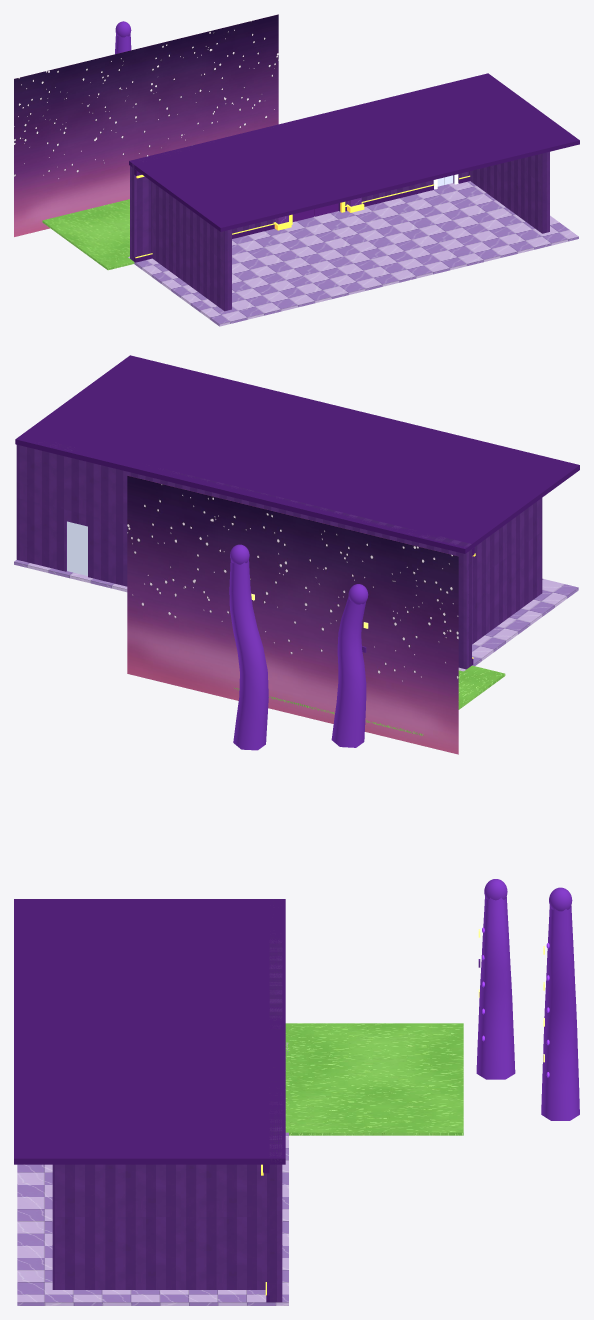
The model's file is vorraum.glb.
The picture shows the model from 3 angles, top to bottom: view 1: azimuth 30°, elevation 25°; view 2: azimuth 150°, elevation 25°; view 3: azimuth 270°, elevation 25°; orthographic projection. The views are drawn at different scales.
Parts seen in each view (by area): view 1: PV_Decke.001, PV_GartenHimmel.001, PV_Boden.001, PV_Seitenwand-1.001, PV_Seitenwand1.001, PV_GartenWiese.001, PV_Wand.001, PV_Sockel2.001; view 2: PV_GartenHimmel.001, PV_Decke.001, PV_Wand.001, PV_Seitenwand-1.001, PV_GartenTurm1.001, PV_GartenTurm0.001, PV_Boden.001, PV_GartenWiese.001, PV_AufzugInnen.001; view 3: PV_Decke.001, PV_Seitenwand1.001, PV_GartenWiese.001, PV_Boden.001, PV_GartenTurm1.001, PV_GartenTurm0.001, PV_Wand.001.
Part boxes in pixels (left/top/right/bottom): PV_Decke.001: left=129, top=73, right=579, bottom=231; PV_GartenHimmel.001: left=14, top=14, right=278, bottom=236; PV_Boden.001: left=128, top=181, right=578, bottom=326; PV_Seitenwand-1.001: left=151, top=181, right=231, bottom=311; PV_Seitenwand1.001: left=469, top=151, right=549, bottom=233; PV_GartenWiese.001: left=42, top=199, right=134, bottom=270; PV_Wand.001: left=130, top=121, right=468, bottom=261; PV_Sockel2.001: left=345, top=184, right=433, bottom=211; PV_GartenHimmel.001: left=127, top=475, right=458, bottom=754; PV_Decke.001: left=15, top=355, right=579, bottom=553; PV_Wand.001: left=16, top=442, right=471, bottom=669; PV_Seitenwand-1.001: left=472, top=498, right=542, bottom=644; PV_GartenTurm1.001: left=229, top=560, right=268, bottom=750; PV_GartenTurm0.001: left=331, top=597, right=366, bottom=747; PV_Boden.001: left=14, top=560, right=578, bottom=671; PV_GartenWiese.001: left=234, top=665, right=505, bottom=735; PV_AufzugInnen.001: left=67, top=521, right=87, bottom=575; PV_Decke.001: left=14, top=899, right=285, bottom=1164; PV_Seitenwand1.001: left=52, top=1164, right=269, bottom=1289; PV_GartenWiese.001: left=285, top=1023, right=463, bottom=1135; PV_Boden.001: left=17, top=1042, right=288, bottom=1305; PV_GartenTurm1.001: left=541, top=905, right=579, bottom=1120; PV_GartenTurm0.001: left=476, top=897, right=515, bottom=1079; PV_Wand.001: left=269, top=937, right=282, bottom=1302.
Size of the model in its own units: 21.9 by 8.04 by 17.5.
Materials: 28 (6 with a texture image).
